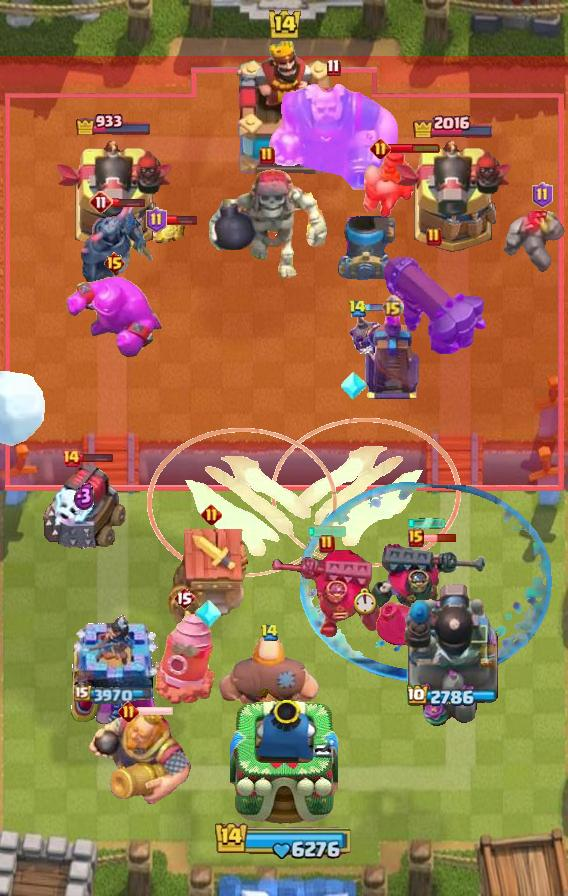baby-dragon: (373, 597, 425, 651)
balloon: (216, 633, 322, 723)
clock: (214, 820, 354, 860)
clone: (64, 275, 164, 359)
electro-giant: (205, 168, 329, 280)
electro-spirit: (73, 482, 94, 510)
elite-barbarian: (362, 145, 422, 219)
elixir: (354, 587, 378, 615)
emote: (387, 142, 440, 154), (138, 705, 175, 717), (110, 196, 146, 208), (163, 214, 196, 226), (78, 453, 114, 464), (422, 533, 458, 543), (364, 303, 384, 313)
furnace: (381, 252, 487, 358)
giant-skeleton: (88, 711, 196, 807)
goblin-ball: (347, 306, 391, 372)
golem: (41, 462, 127, 552)
golemite: (78, 201, 158, 295)
ice-spirit: (407, 517, 447, 529), (307, 525, 347, 537)
ice-spirit-evolution: (147, 216, 187, 246)
ice-spirit-evolution-symbol: (362, 309, 422, 401)
ice-wizard: (271, 417, 461, 567), (147, 427, 337, 577)
inferno-tower: (269, 549, 385, 641), (368, 538, 486, 624)
king-tower: (228, 41, 340, 181), (230, 698, 338, 826)
lightning: (262, 81, 406, 195)
magic-archer: (151, 609, 217, 707)
musketeer: (336, 216, 396, 280)
pad_0: (300, 480, 554, 682)
pad_2: (340, 370, 368, 402), (194, 598, 222, 630)
queen-tower: (65, 614, 162, 730)
selected: (413, 112, 496, 138), (407, 685, 499, 708), (75, 111, 153, 135), (74, 684, 154, 704)
sparky: (168, 528, 254, 626)
text: (89, 190, 113, 214), (102, 251, 125, 275), (381, 294, 404, 318), (531, 182, 552, 208), (146, 207, 167, 233), (173, 586, 195, 610), (117, 701, 138, 723), (369, 138, 390, 159), (201, 504, 222, 525), (61, 448, 81, 468), (260, 623, 280, 641), (349, 299, 368, 317), (259, 146, 275, 166), (426, 227, 442, 247), (319, 534, 335, 554), (408, 529, 424, 547), (327, 59, 341, 77)
tower-bar: (402, 579, 504, 731), (53, 138, 175, 256), (392, 138, 514, 256)
valkyrie-evolution: (500, 208, 568, 278)
wall-breaker: (1, 368, 48, 448)
